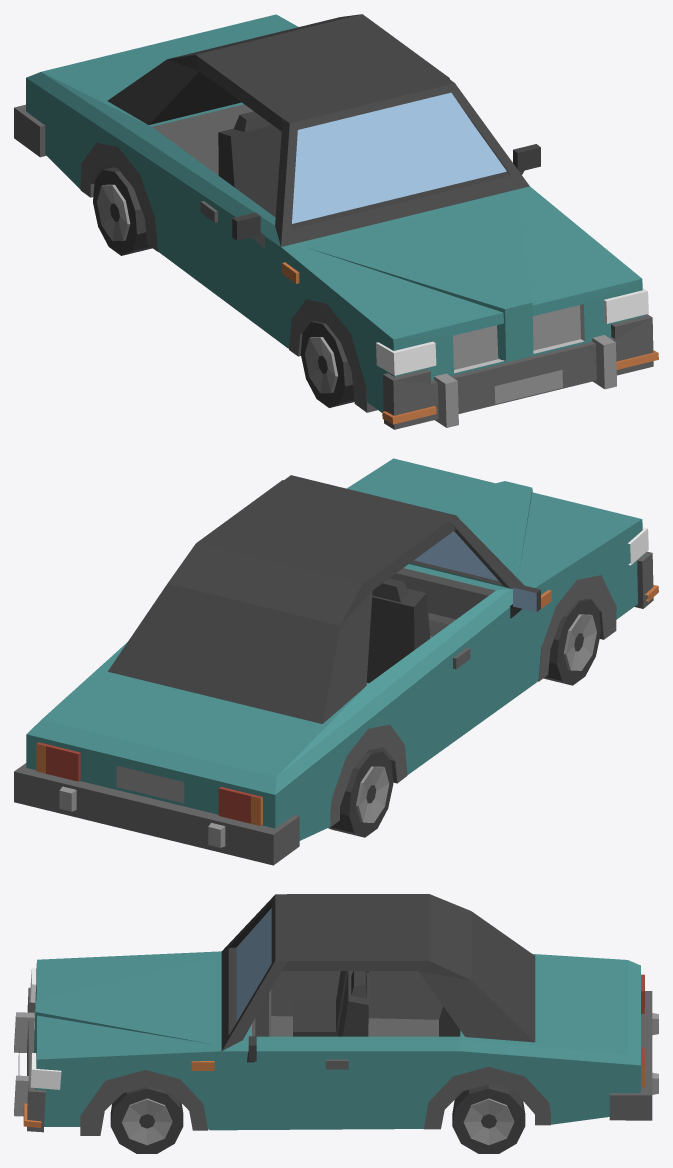
Rendered from transport_old_007.glb.
3 renders of one model, top to bottom at view 1: azimuth 30°, elevation 25°; view 2: azimuth 150°, elevation 25°; view 3: azimuth 270°, elevation 25°, orthographic. The views are drawn at different scales.
Parts seen in each view (by area): view 1: transport_old_007; view 2: transport_old_007; view 3: transport_old_007.
Part boxes in pixels (x1=…): transport_old_007: x1=14, y1=14, x2=658, y2=429; transport_old_007: x1=14, y1=458, x2=658, y2=865; transport_old_007: x1=14, y1=894, x2=658, y2=1153.
Bounding box in the file's own units: 1.48 × 0.9878 × 3.3.
1 material, 1 textured.
